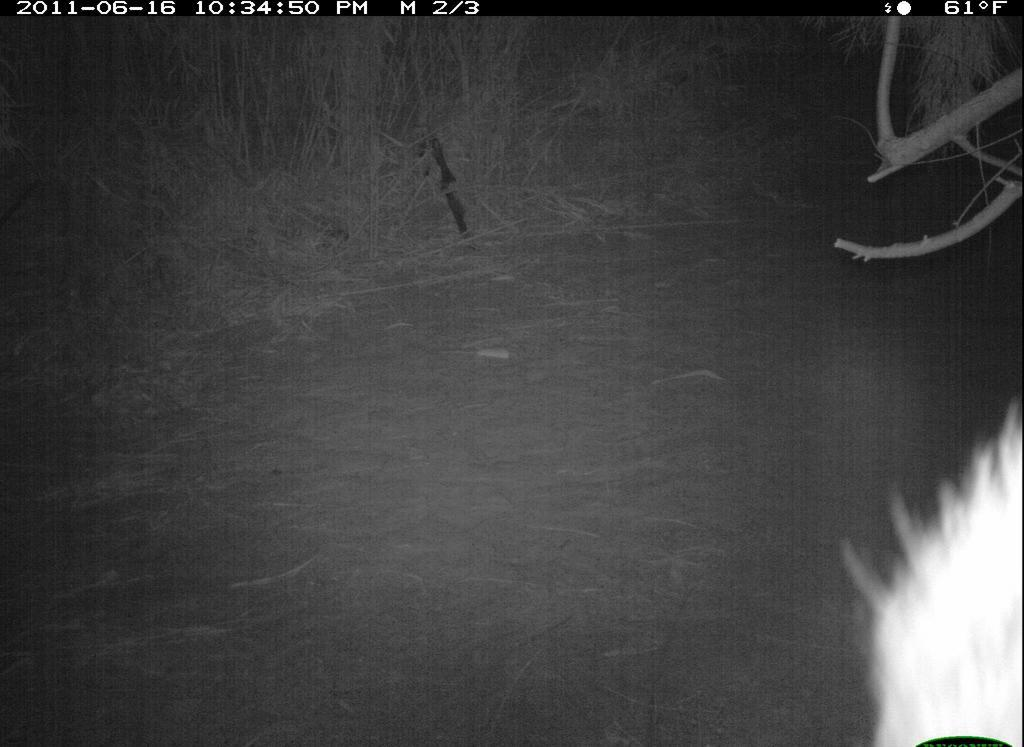raccoon: (833, 389, 1024, 747)
